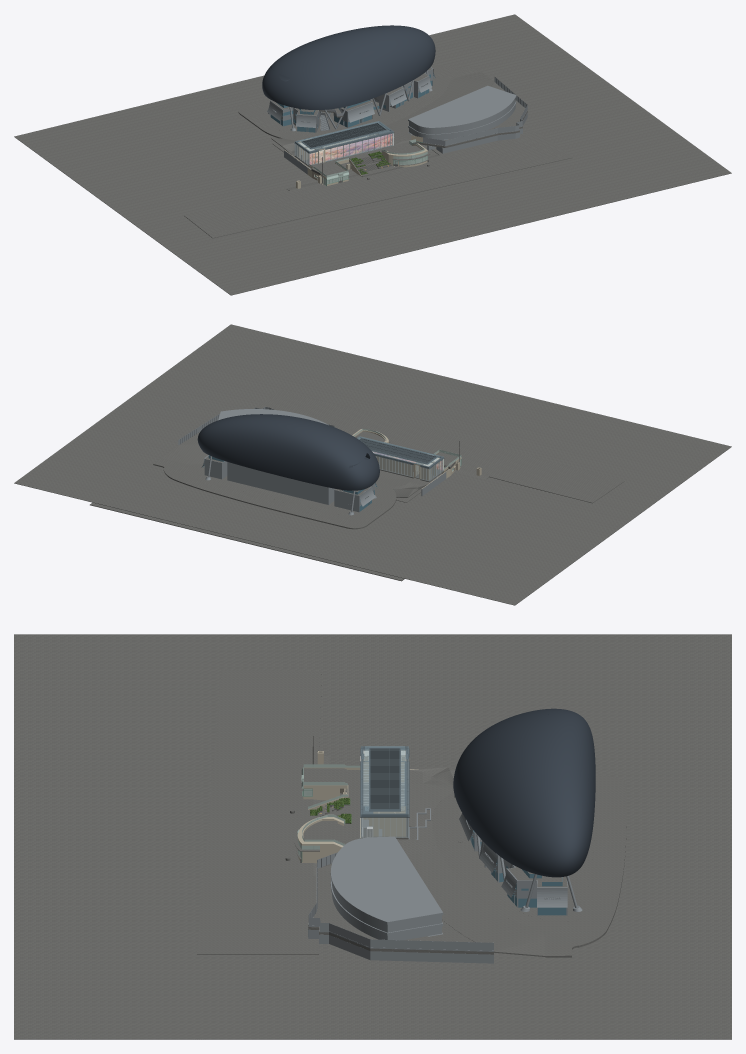
Rendered from crystal-hall.glb.
3 views of the same model, one above another, from view 1: azimuth 30°, elevation 25°; view 2: azimuth 150°, elevation 25°; view 3: azimuth 270°, elevation 25° (orthographic). The views are drawn at different scales.
Visible parts, largest first — view 1: RiversidePaving, Forecourt_Stone, Context_Canopy, Context_ContextMetal, Context_ContextStone, Glazing_Glass, Roof_RoofMetal, ProjectionScreen, Context_ContextGlass, Forecourt_WarmWall, Forecourt_FrostedGlass, Hall_SilverMetal; view 2: RiversidePaving, Context_Canopy, Forecourt_Stone, Context_ContextStone, Context_ContextMetal, Glazing_Glass, Roof_RoofMetal, Hall_WarmWall; view 3: RiversidePaving, Forecourt_Stone, Context_ContextStone, Context_Canopy, Context_ContextMetal, Roof_RoofMetal, Glazing_Glass, Forecourt_WarmWall, Hall_WarmWall, Forecourt_FrostedGlass, Context_ContextGlass.
Part boxes in pixels (x1,y1,x2,y2): RiversidePaving: (14, 14, 731, 295); Forecourt_Stone: (184, 130, 571, 237); Context_Canopy: (262, 25, 435, 109); Context_ContextMetal: (267, 67, 527, 174); Context_ContextStone: (184, 65, 571, 238); Glazing_Glass: (295, 121, 393, 165); Roof_RoofMetal: (294, 121, 393, 153); ProjectionScreen: (309, 134, 392, 164); Context_ContextGlass: (270, 72, 435, 132); Forecourt_WarmWall: (296, 135, 427, 188); Forecourt_FrostedGlass: (309, 139, 427, 185); Hall_SilverMetal: (295, 133, 393, 164); RiversidePaving: (14, 324, 731, 605); Context_Canopy: (197, 414, 379, 490); Forecourt_Stone: (256, 390, 624, 502); Context_ContextStone: (90, 432, 624, 581); Context_ContextMetal: (178, 406, 449, 515); Glazing_Glass: (357, 436, 443, 480); Roof_RoofMetal: (357, 436, 444, 469); Hall_WarmWall: (375, 454, 449, 488); RiversidePaving: (14, 634, 731, 1039); Forecourt_Stone: (197, 669, 361, 953); Context_ContextStone: (197, 674, 626, 957); Context_Canopy: (453, 708, 595, 877); Context_ContextMetal: (308, 794, 582, 963); Roof_RoofMetal: (360, 746, 409, 817); Glazing_Glass: (361, 746, 408, 837); Forecourt_WarmWall: (297, 751, 360, 863); Hall_WarmWall: (361, 750, 418, 836); Forecourt_FrostedGlass: (297, 764, 360, 857); Context_ContextGlass: (470, 830, 566, 915).
Size of the model in its own units: 240 by 41.99 by 180.
Materials: 17 (3 with a texture image).
